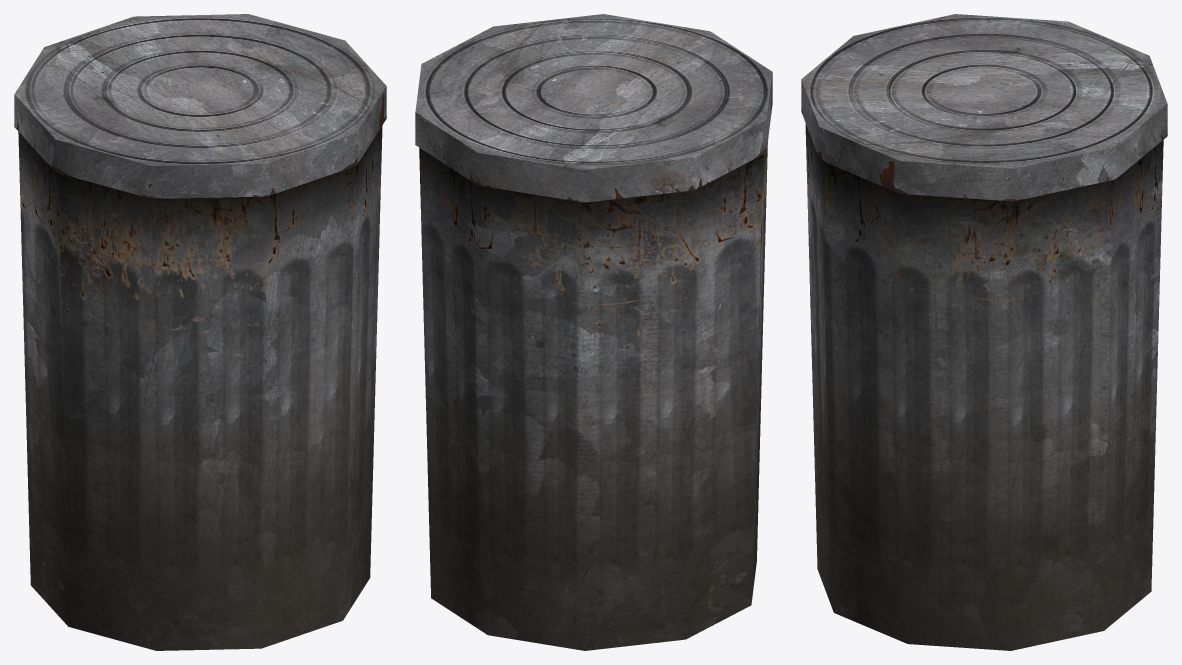
Rendered from Trash_LOD2.fbx.
3 renders of one model, left to right at view 1: azimuth 30°, elevation 25°; view 2: azimuth 150°, elevation 25°; view 3: azimuth 270°, elevation 25°, orthographic.
Parts seen in each view (by area): view 1: Cone02; view 2: Cone02; view 3: Cone02.
Part boxes in pixels (left/top/right/bottom): Cone02: left=14, top=14, right=386, bottom=650; Cone02: left=415, top=14, right=772, bottom=650; Cone02: left=801, top=14, right=1167, bottom=650.
Size of the model in its own units: 0.7003 by 1.03 by 0.7003.
